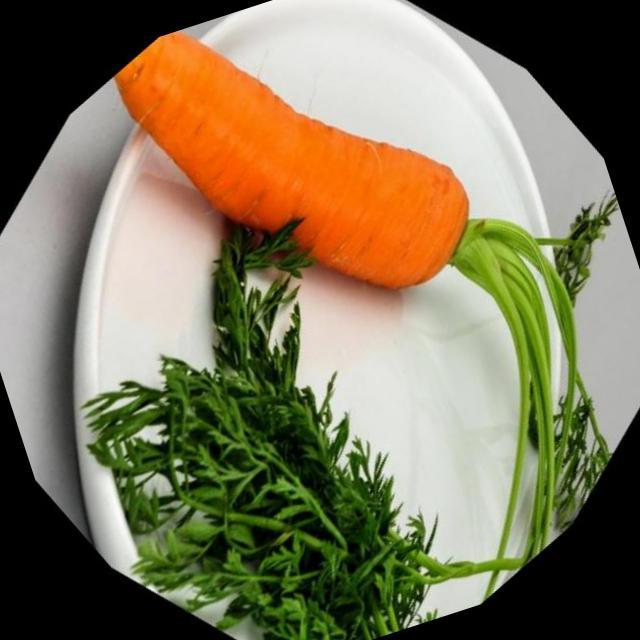carrot: (42, 0, 640, 603)
